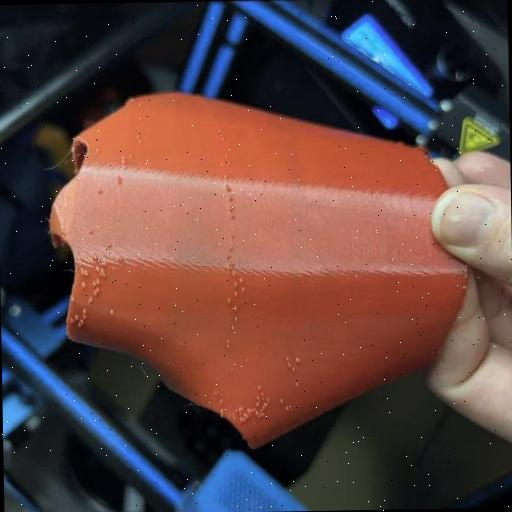blobs: (80, 265, 90, 279), (106, 306, 116, 318), (224, 336, 232, 351), (244, 405, 256, 415), (118, 156, 128, 167), (78, 277, 88, 288), (91, 278, 102, 288), (75, 320, 88, 328), (98, 270, 108, 280), (232, 301, 242, 311), (96, 184, 104, 196), (116, 174, 124, 185), (104, 238, 112, 249), (94, 287, 102, 297), (86, 296, 94, 306), (239, 283, 247, 293), (226, 184, 234, 194), (294, 354, 302, 364), (93, 264, 101, 273), (234, 404, 242, 413), (233, 312, 240, 322), (233, 278, 240, 288), (217, 406, 224, 416), (90, 254, 98, 262), (82, 312, 90, 320), (226, 296, 234, 304), (228, 205, 236, 213), (226, 194, 234, 202), (242, 356, 250, 364), (284, 404, 292, 412), (294, 381, 301, 390), (88, 228, 95, 236), (283, 355, 291, 362), (279, 396, 286, 404), (230, 232, 236, 241), (228, 364, 234, 373), (228, 244, 235, 251), (286, 362, 293, 369), (233, 290, 239, 298), (214, 390, 220, 398), (232, 413, 238, 421), (74, 313, 80, 320), (238, 276, 245, 282), (212, 376, 219, 382), (256, 384, 263, 390), (256, 410, 262, 417), (255, 400, 260, 408), (230, 214, 236, 220), (230, 324, 234, 332), (82, 307, 88, 312), (226, 254, 231, 260), (266, 398, 270, 404), (220, 399, 224, 404), (255, 395, 260, 399)
